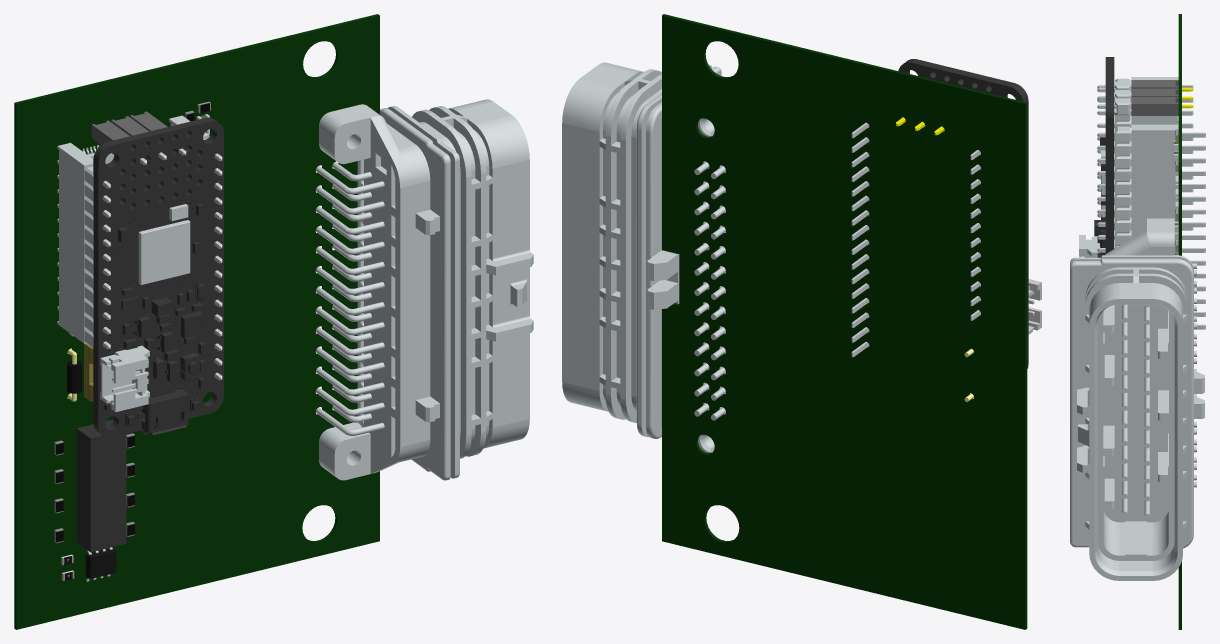
3 views of the same model, side by side, from view 1: azimuth 30°, elevation 25°; view 2: azimuth 150°, elevation 25°; view 3: azimuth 270°, elevation 25° (orthographic). The views are drawn at different scales.
Visible parts, largest first — view 1: Open CASCADE STEP translator 7.5 2.1.1, c-6473711-1-o3-3d, Board, Extruded, SSW-112-01-X-S.step, object 417, object 368, 4UCONN_20329_V2, Body; view 2: Open CASCADE STEP translator 7.5 2.1.1, c-6473711-1-o3-3d, Board, SSW-116-02-X-S.step, SSW-112-01-X-S.step; view 3: c-6473711-1-o3-3d, SSW-116-02-X-S.step, Board, T1SSW-101-01-T-S (×3), Open CASCADE STEP translator 7.5 2.1.1, SSW-112-01-X-S.step, object 368, object 461, object 478, object 464, object 476, object 463 (+1 smaller).
Boxes of the visible parts, bbox=[...] form: Open CASCADE STEP translator 7.5 2.1.1: bbox=[14, 14, 379, 629]; c-6473711-1-o3-3d: bbox=[315, 99, 533, 480]; Board: bbox=[93, 117, 223, 437]; Extruded: bbox=[76, 419, 126, 552]; SSW-112-01-X-S.step: bbox=[57, 142, 93, 343]; object 417: bbox=[138, 220, 190, 284]; object 368: bbox=[100, 345, 149, 412]; 4UCONN_20329_V2: bbox=[137, 389, 188, 435]; Body: bbox=[85, 548, 116, 578]; Open CASCADE STEP translator 7.5 2.1.1: bbox=[662, 14, 1027, 629]; c-6473711-1-o3-3d: bbox=[562, 62, 725, 452]; Board: bbox=[898, 59, 1028, 368]; SSW-116-02-X-S.step: bbox=[851, 122, 869, 357]; SSW-112-01-X-S.step: bbox=[970, 150, 980, 320]; c-6473711-1-o3-3d: bbox=[1070, 218, 1204, 580]; SSW-116-02-X-S.step: bbox=[1131, 124, 1205, 329]; Board: bbox=[1105, 57, 1114, 253]; T1SSW-101-01-T-S (×3): bbox=[1131, 80, 1178, 115]; Open CASCADE STEP translator 7.5 2.1.1: bbox=[1178, 14, 1181, 629]; SSW-112-01-X-S.step: bbox=[1131, 77, 1193, 230]; object 368: bbox=[1079, 235, 1100, 257]; object 461: bbox=[1115, 98, 1130, 115]; object 478: bbox=[1115, 126, 1130, 143]; object 464: bbox=[1115, 142, 1130, 156]; object 476: bbox=[1115, 206, 1130, 220]; object 463: bbox=[1115, 155, 1130, 169].
Size of the model in its own units: 84.19 by 91.44 by 24.45.
